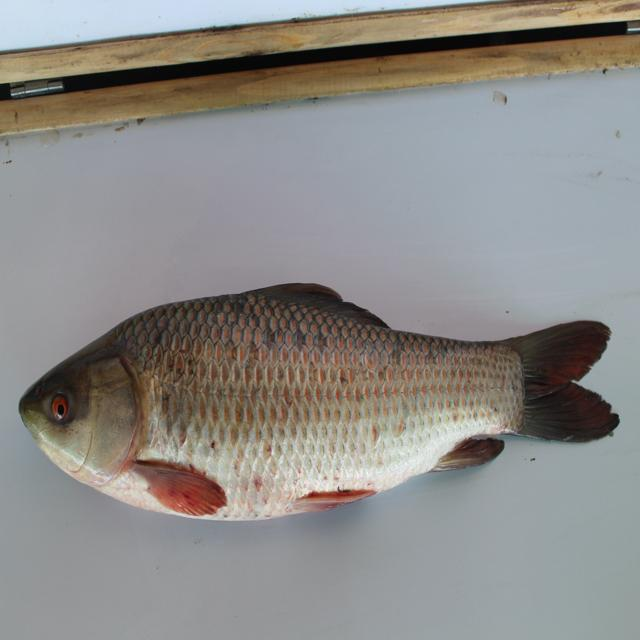Rohu: (3, 273, 637, 527)
